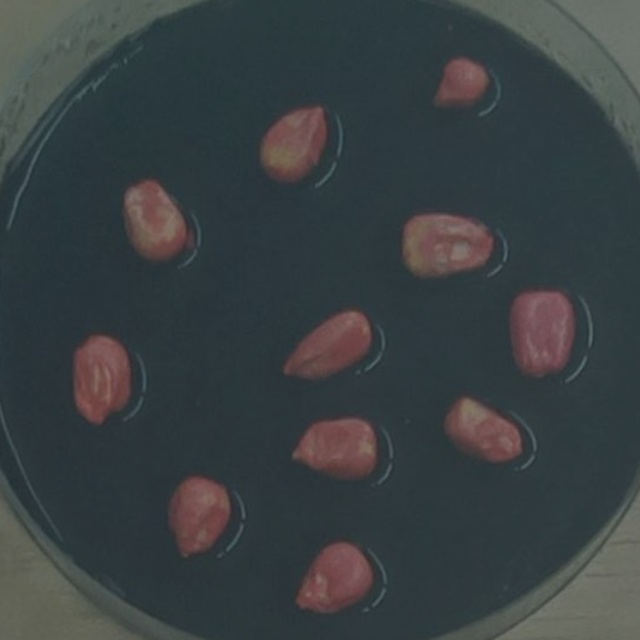Zea mays: (268, 298, 379, 391), (390, 203, 506, 290), (279, 409, 390, 490), (284, 535, 381, 626), (500, 281, 581, 388), (110, 172, 196, 272), (434, 390, 533, 476), (250, 98, 337, 194), (160, 468, 239, 572), (64, 327, 141, 433), (422, 49, 499, 121)
